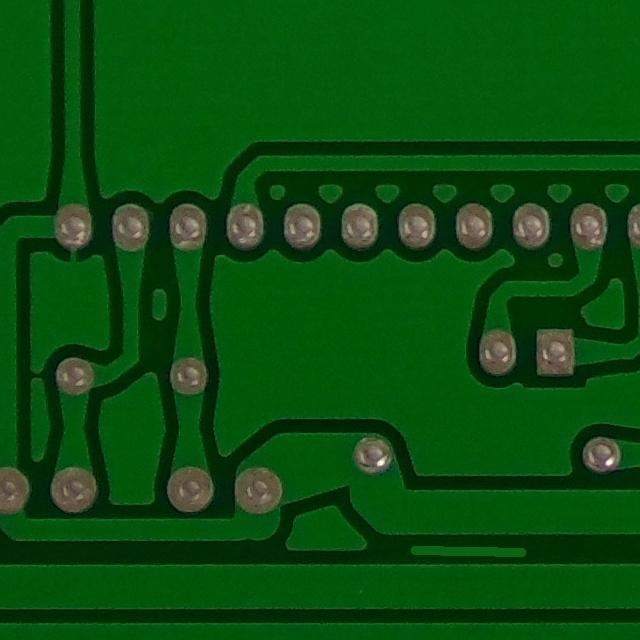spurious_copper: (402, 535, 534, 572)
